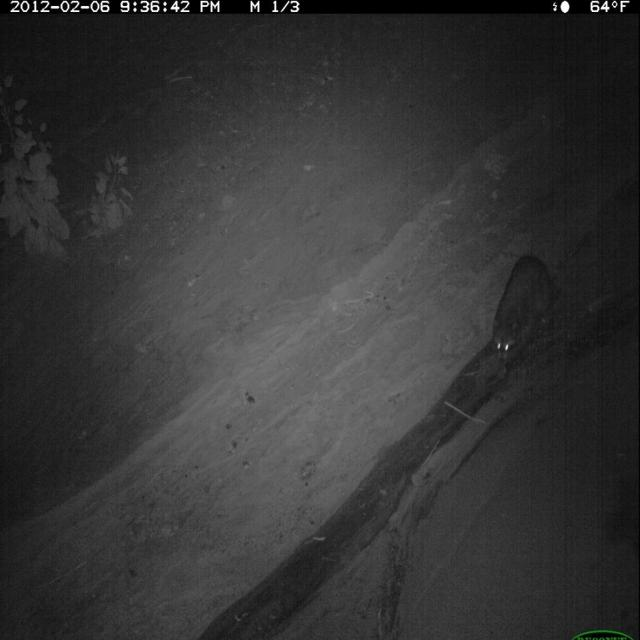raccoon: (486, 246, 561, 377)
